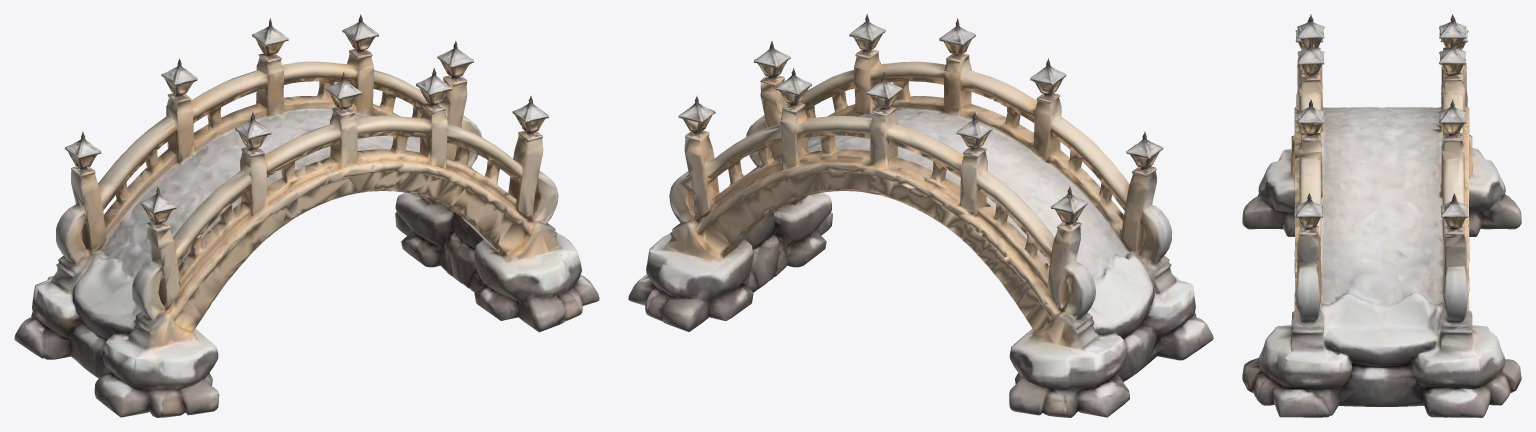
File: bridge lantern.glb
The picture shows the model from 3 angles, left to right: view 1: azimuth 30°, elevation 25°; view 2: azimuth 150°, elevation 25°; view 3: azimuth 270°, elevation 25°; orthographic projection. The views are drawn at different scales.
Bounding box in the file's own units: 2 × 1.1 × 1.05.
Materials: 1 (1 with a texture image).
